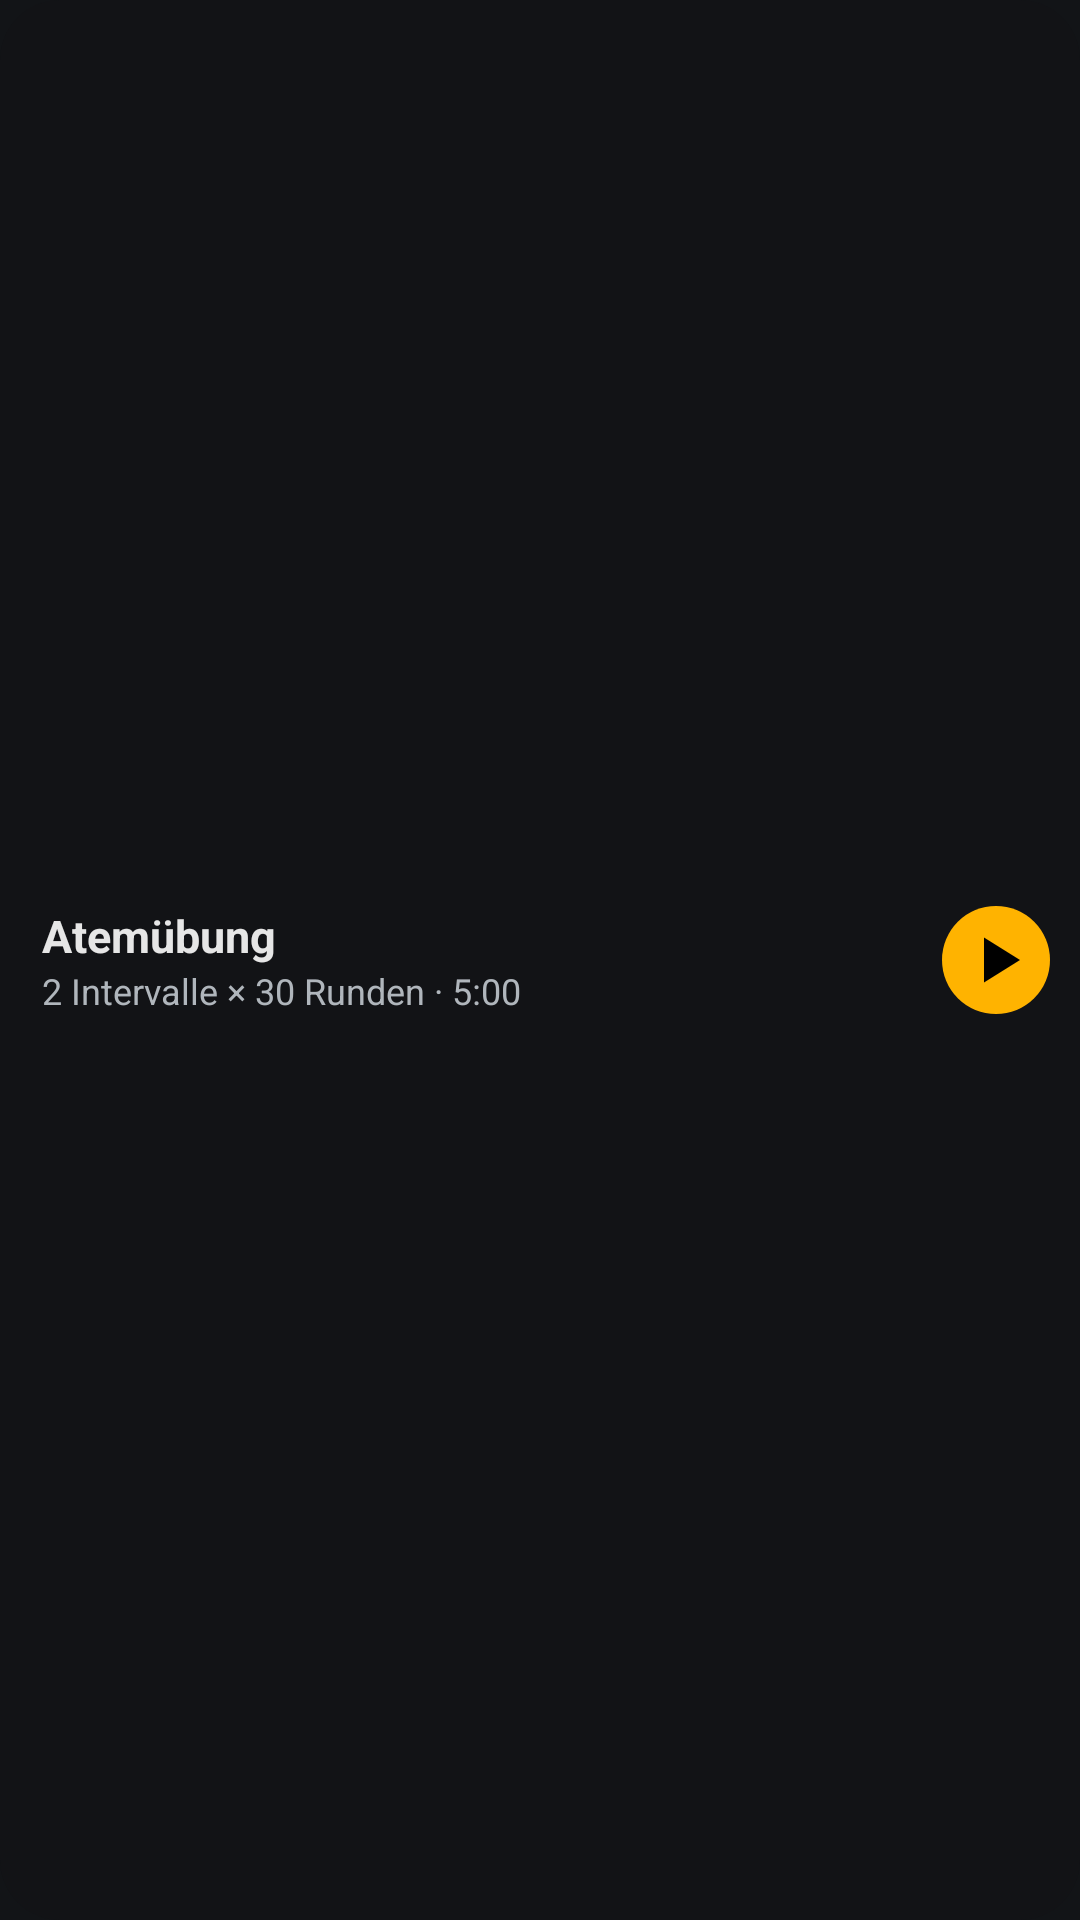

Icons on this 1080*1920 Android screen, each with its box as [left=x1, top=y1, right=x2, bottom=y2]:
widget play: [left=942, top=906, right=1050, bottom=1014]
